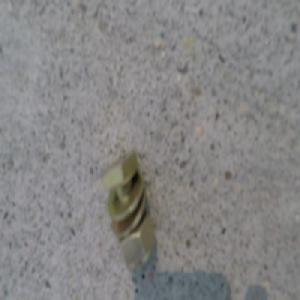BoltNutSet: (104, 153, 157, 265)
